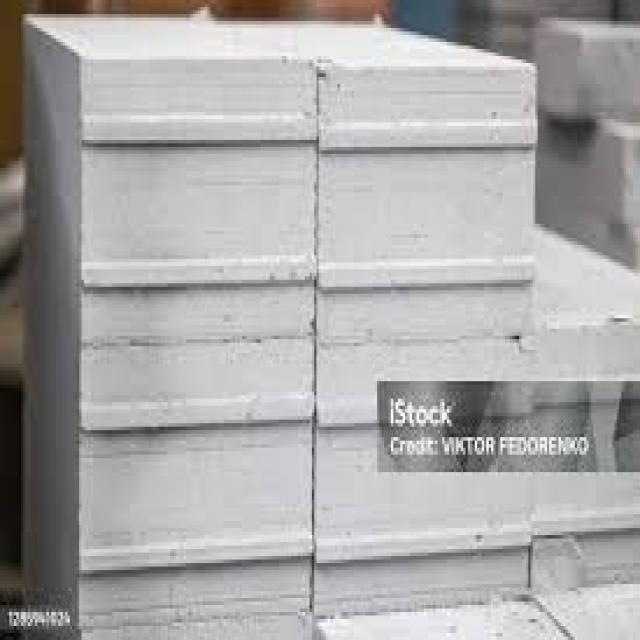bricks: (21, 21, 638, 637)
